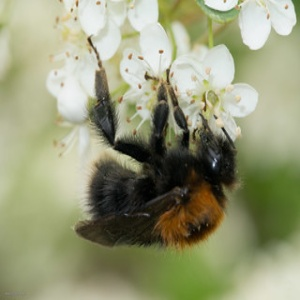bee: (75, 38, 240, 252)
